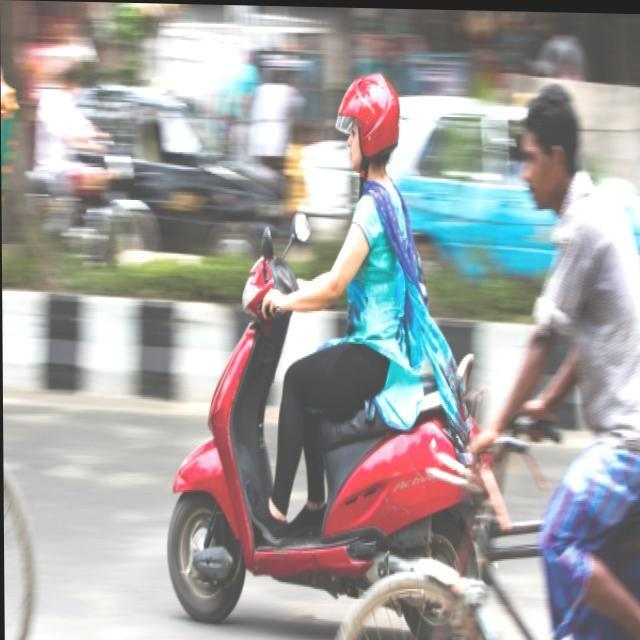Helmet: (334, 61, 403, 186)
